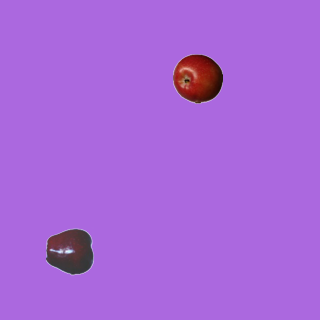Apple Braeburn: (172, 53, 222, 103)
Apple Red Delicious: (45, 226, 95, 276)
